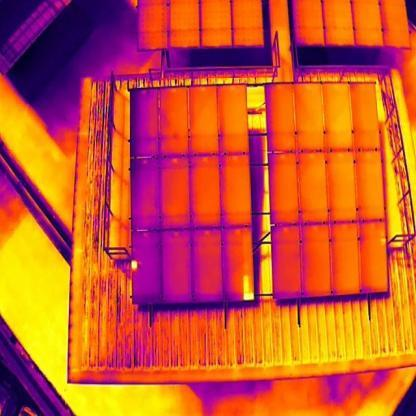anomaly: (240, 274, 257, 303), (126, 258, 140, 271)
